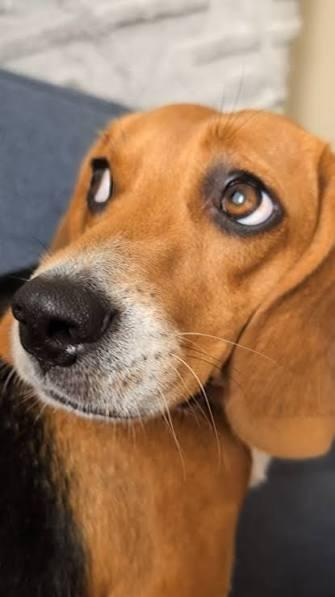adult_dog: (0, 101, 335, 597)
